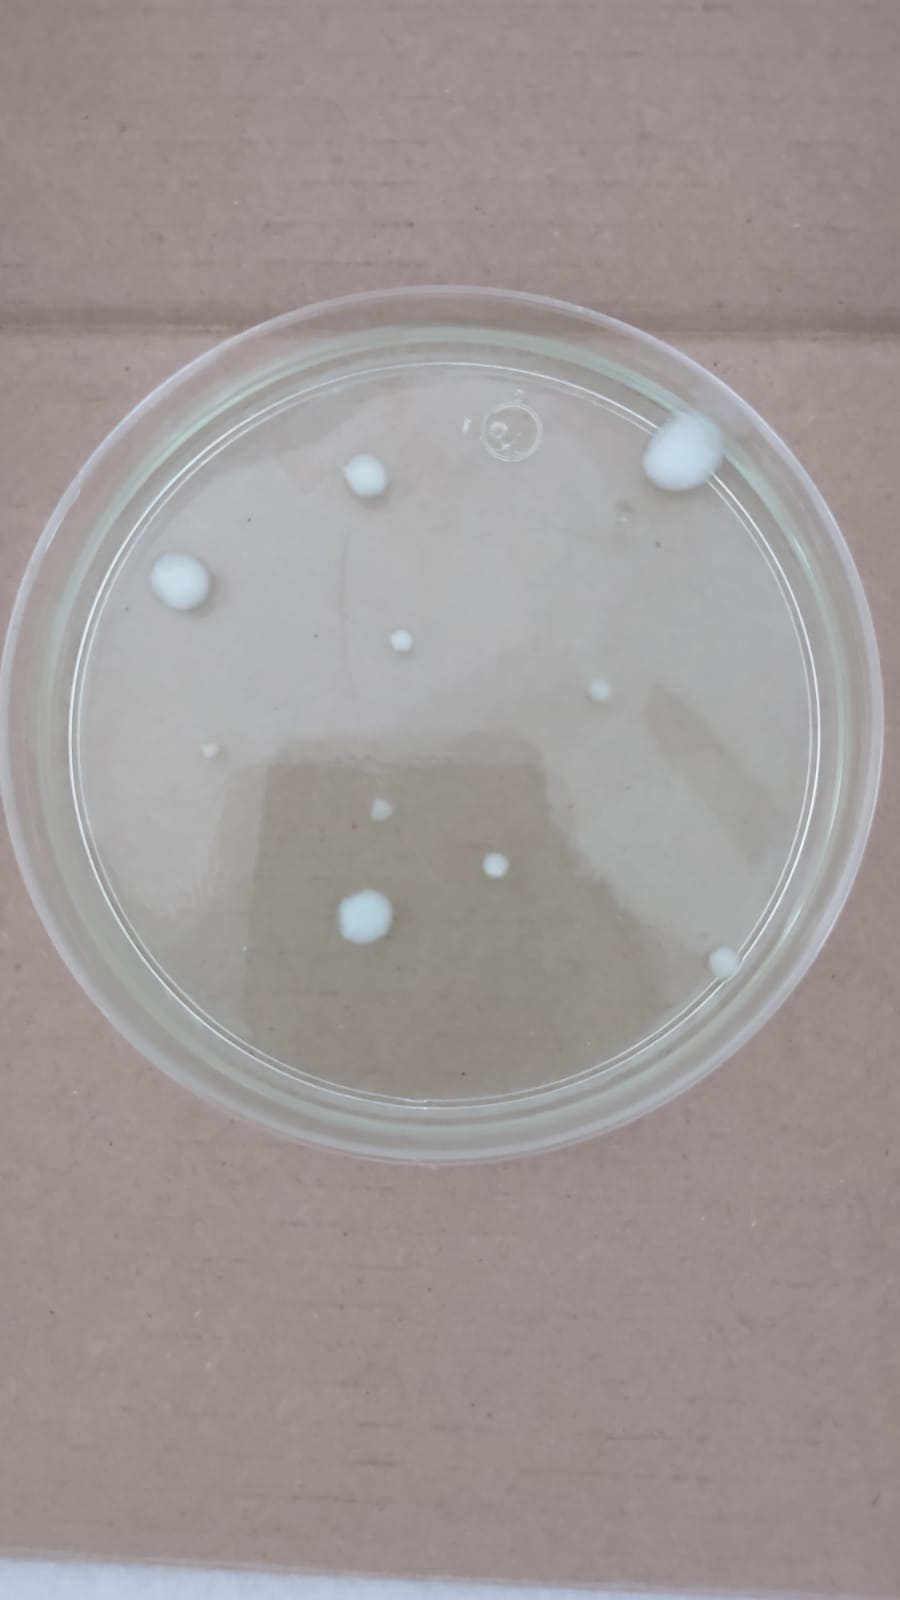Colonia: (638, 402, 726, 492), (331, 884, 401, 948), (151, 549, 216, 615), (337, 446, 390, 503), (700, 942, 746, 984), (582, 673, 613, 714), (478, 848, 511, 884), (363, 795, 400, 825), (388, 627, 416, 653), (196, 740, 224, 760)
